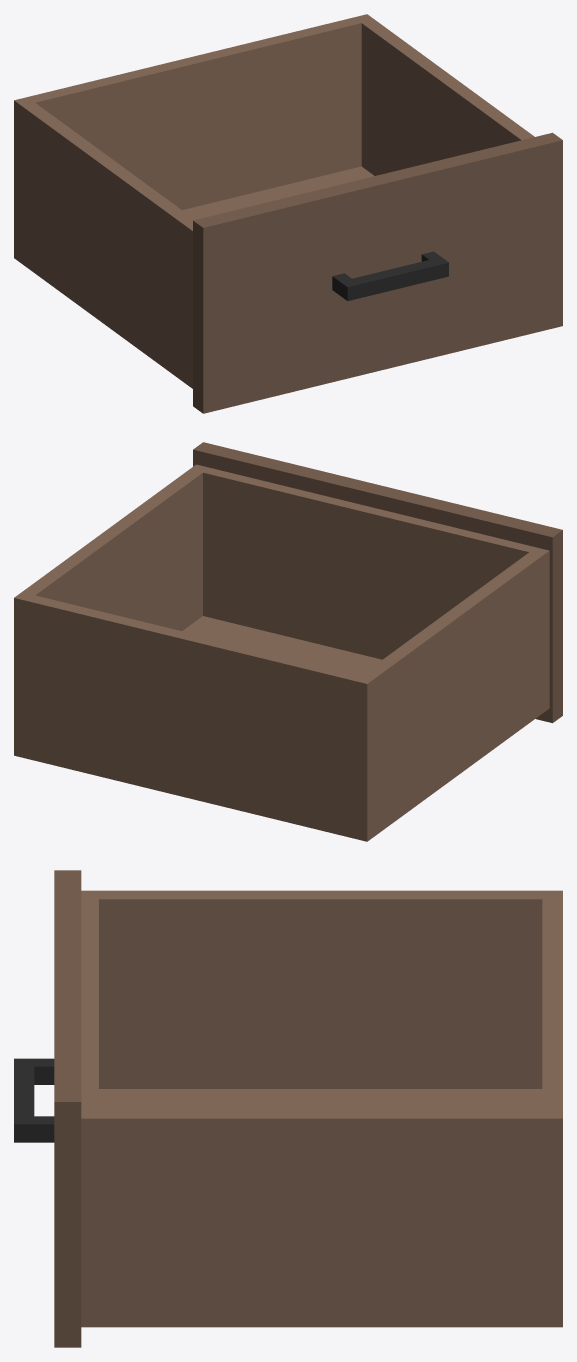
The model's file is BedTable1_C1_02.fbx.
3 renders of one model, top to bottom at view 1: azimuth 30°, elevation 25°; view 2: azimuth 150°, elevation 25°; view 3: azimuth 270°, elevation 25°, orthographic. The views are drawn at different scales.
Visible parts, largest first — view 1: BedTable1_C1_02; view 2: BedTable1_C1_02; view 3: BedTable1_C1_02.
Part boxes in pixels (x1,y1,x2,y2): BedTable1_C1_02: [14, 14, 562, 413]; BedTable1_C1_02: [14, 442, 562, 841]; BedTable1_C1_02: [14, 870, 562, 1347].
Size of the model in its own units: 40.5 by 20 by 40.51.
